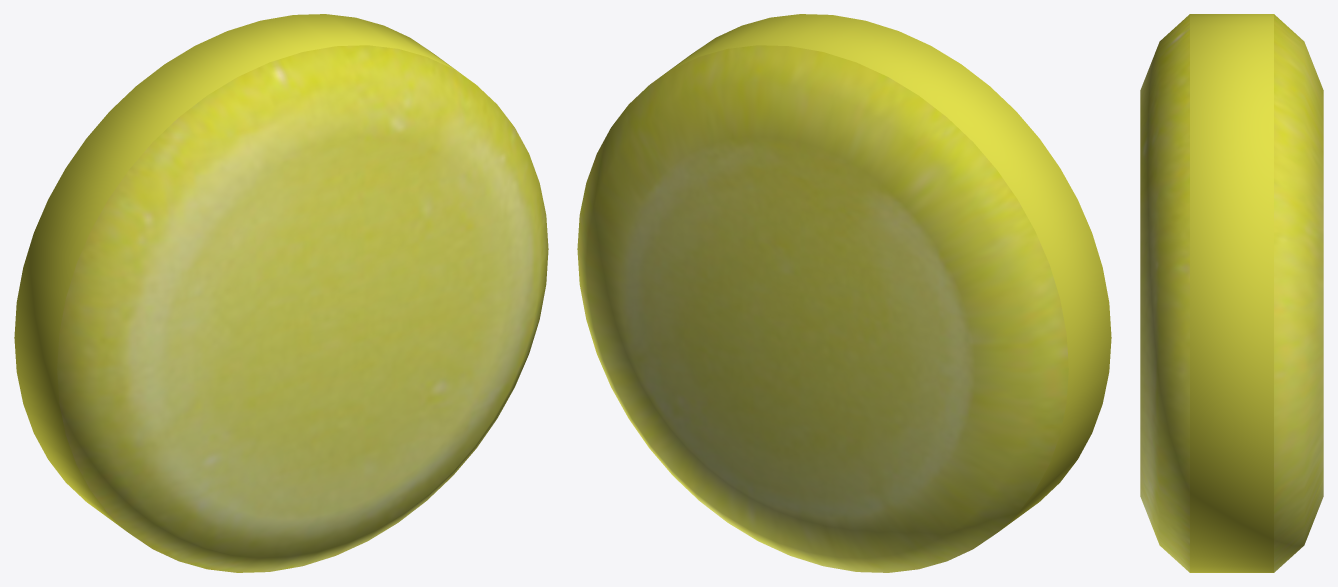
The model's file is 20140327GOPHDRGPT33100.fbx.
The picture shows the model from 3 angles, left to right: view 1: azimuth 30°, elevation 25°; view 2: azimuth 150°, elevation 25°; view 3: azimuth 270°, elevation 25°; orthographic projection.
Visible parts, largest first — view 1: 貝茲圓.003; view 2: 貝茲圓.003; view 3: 貝茲圓.003.
Boxes of the visible parts, x1,y1,x2,y2 form: 貝茲圓.003: (14,14,548,572); 貝茲圓.003: (577,14,1111,572); 貝茲圓.003: (1140,14,1323,572).
Bounding box in the file's own units: 1.2 × 1.2 × 0.3927.
Materials: 1 (1 with a texture image).
